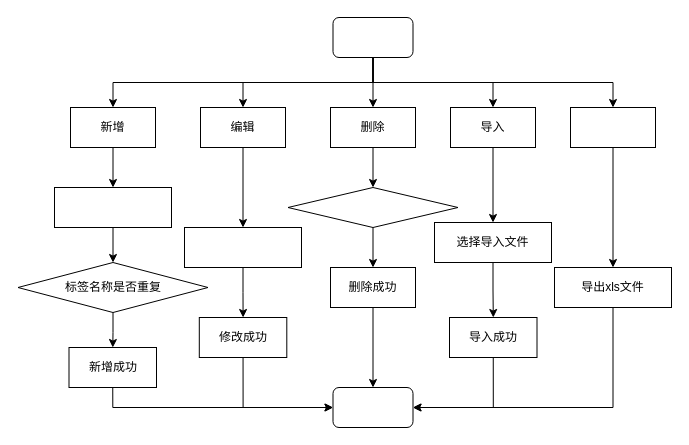
Image size: 689x445. Some labels were removed from this diagram. The centre of each missing label's shape, as x and y in pixels:
"修改标签信息" belongs at pixel 243 247.
"导出" belongs at pixel 613 127.
"开始" belongs at pixel 372 37.
"是否确定删除" belongs at pixel 372 207.
"结束" belongs at pixel 372 407.
"输入标签信息" belongs at pixel 113 207.
